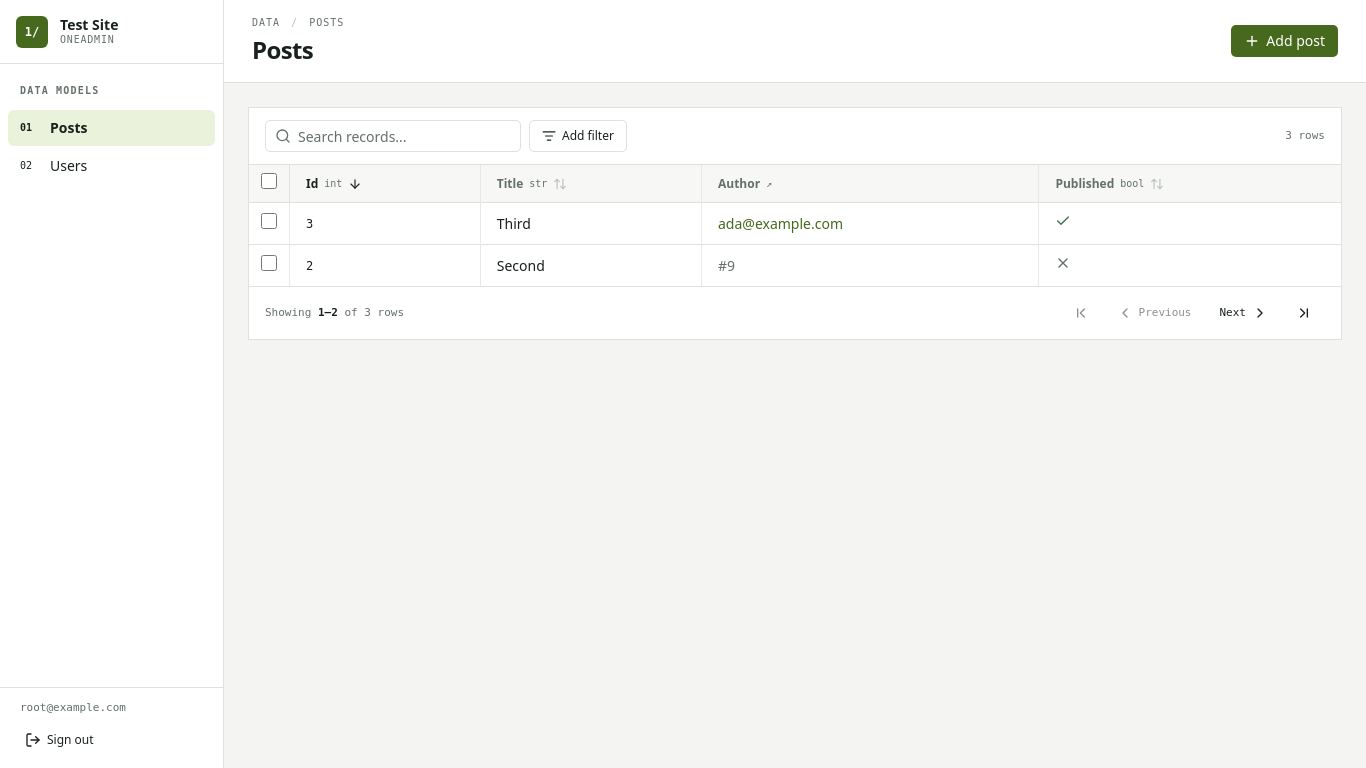
Test case: deleting and actions › asks before destructive actions; select-page selects every row
Click the checkbox named "Select all rows on this page": (269, 181) [261,173,277,189]
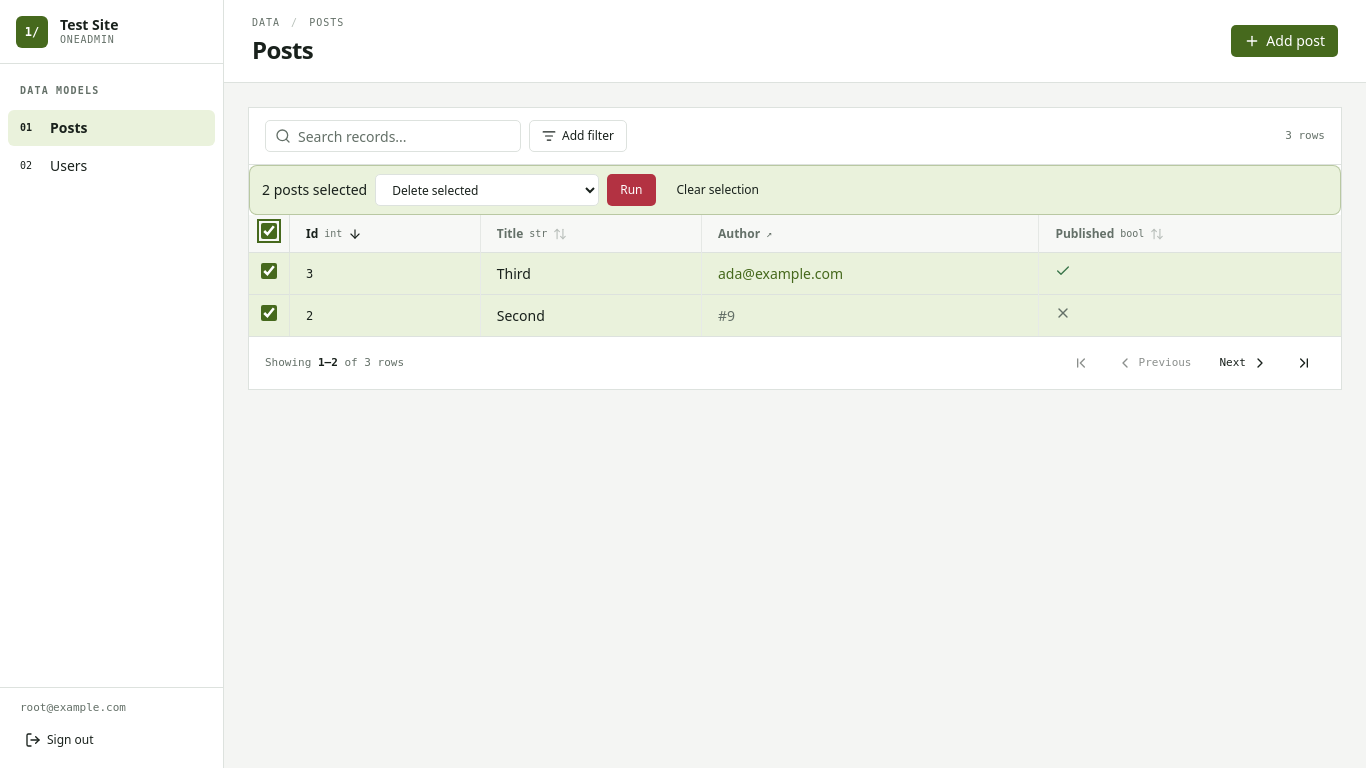
Click the button "Run": (631, 190) [607,174,656,206]
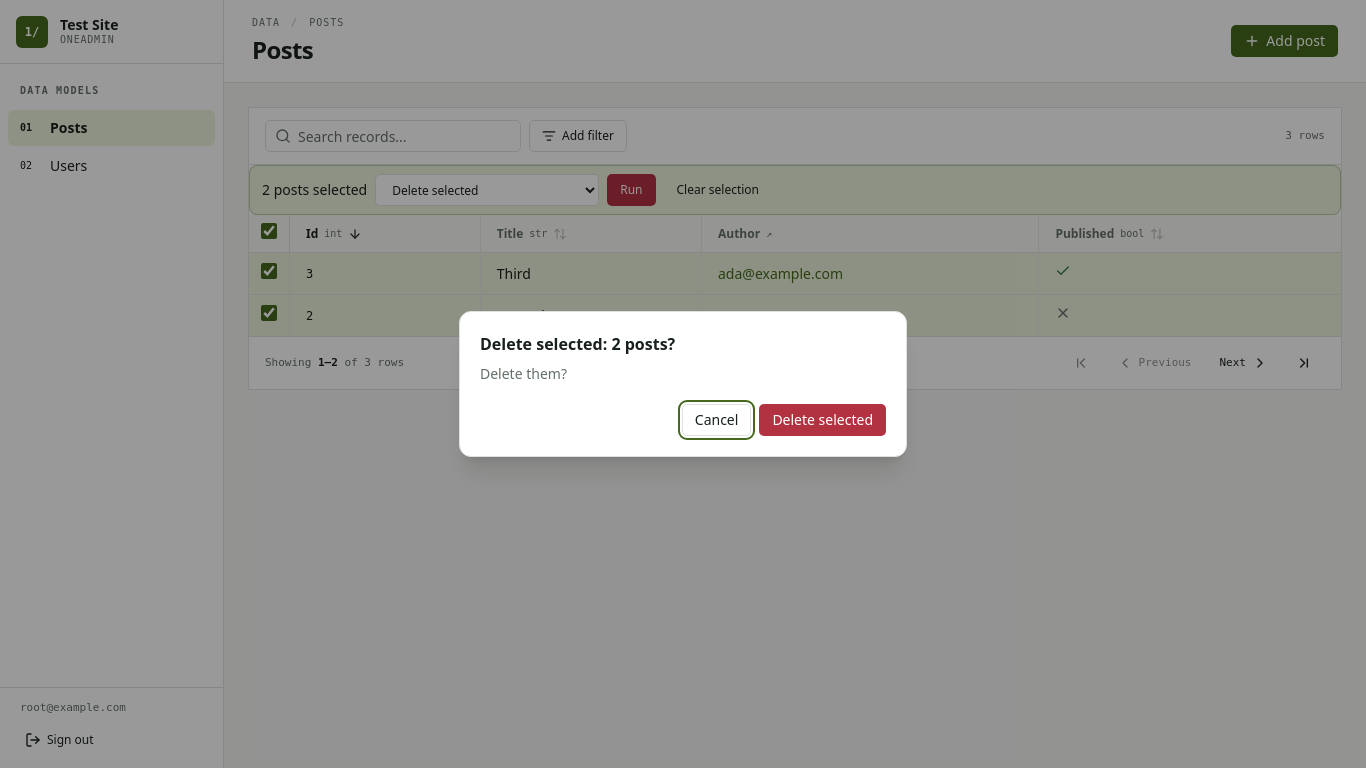
Click the button "Delete selected": (823, 420) [759,404,886,436]
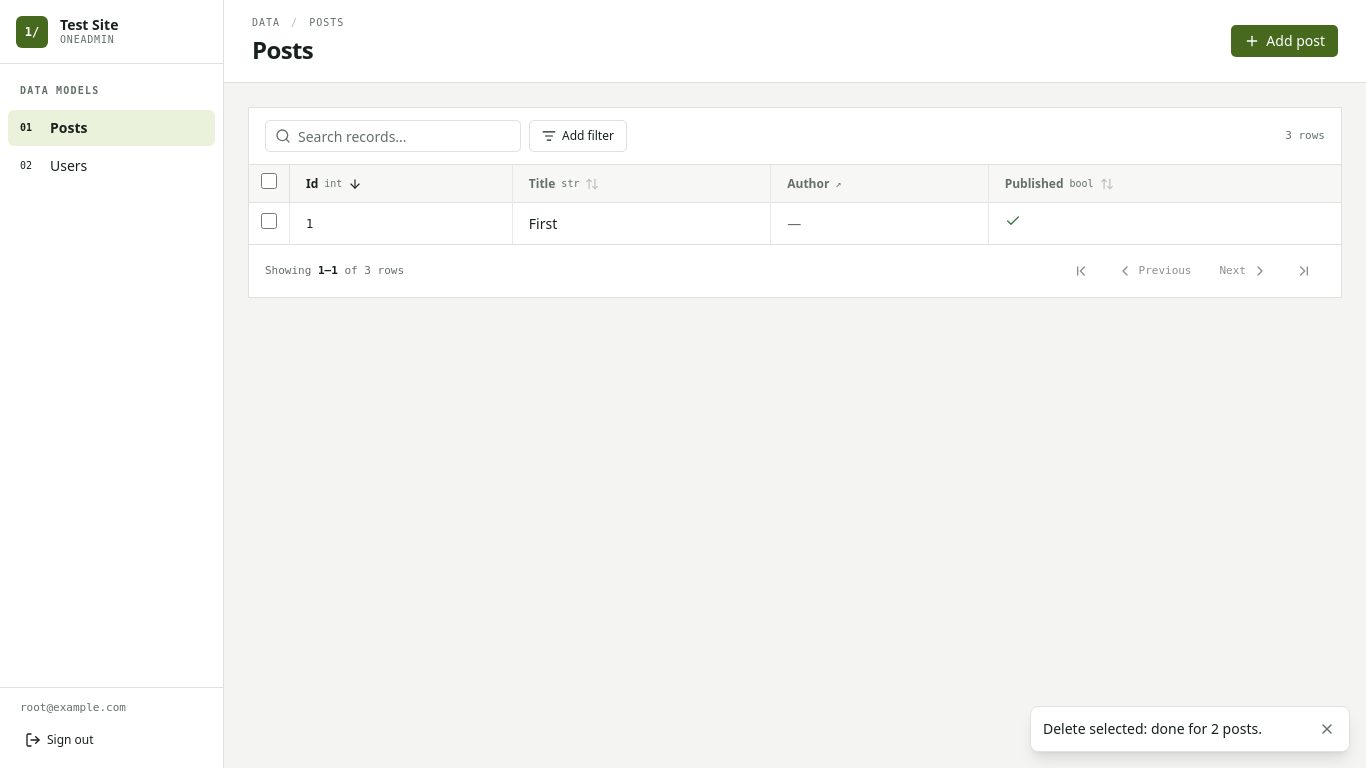
Result: the text "Delete selected: done for 2 posts." is shown at [1043,719,1262,738]
